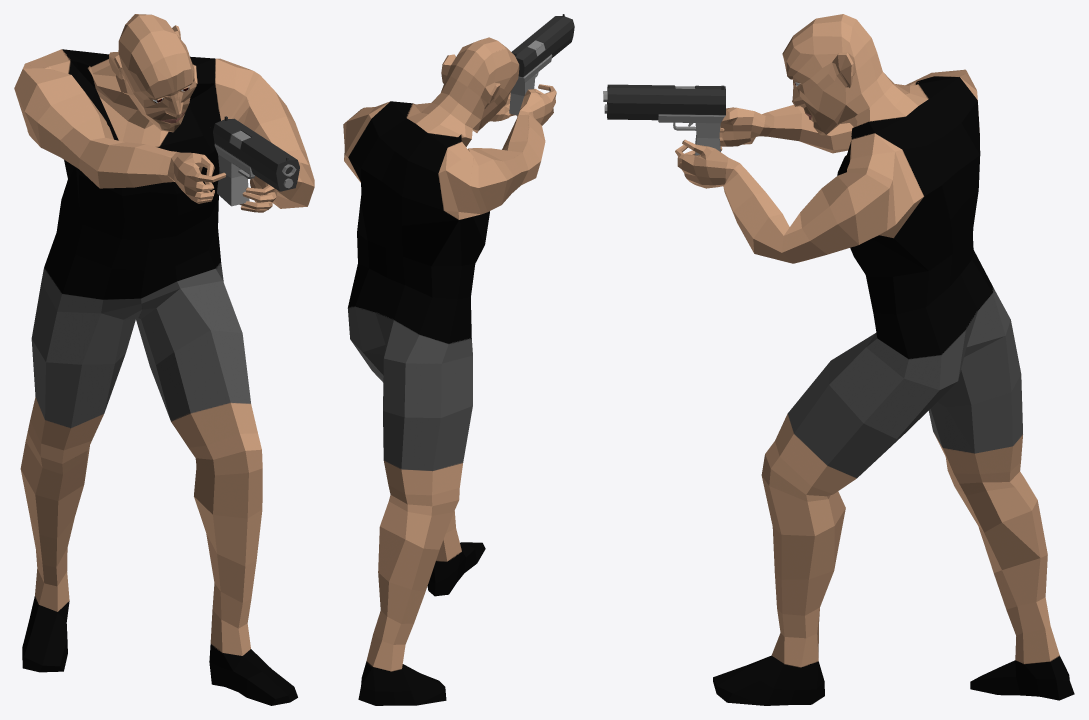
Rendered from PlayerWalk(1).obj.
3 renders of one model, left to right at view 1: azimuth 30°, elevation 25°; view 2: azimuth 150°, elevation 25°; view 3: azimuth 270°, elevation 25°, orthographic. The views are drawn at different scales.
Parts seen in each view (by area): view 1: Plane002, Box003; view 2: Plane002, Box003; view 3: Plane002, Box003.
Part boxes in pixels (left/top/right/bottom): Plane002: left=14, top=14, right=314, bottom=705; Box003: left=213, top=116, right=299, bottom=206; Plane002: left=343, top=37, right=556, bottom=705; Box003: left=509, top=14, right=574, bottom=115; Plane002: left=675, top=14, right=1074, bottom=705; Box003: left=603, top=84, right=725, bottom=155.
Size of the model in its own units: 578 by 1729 by 1085.
